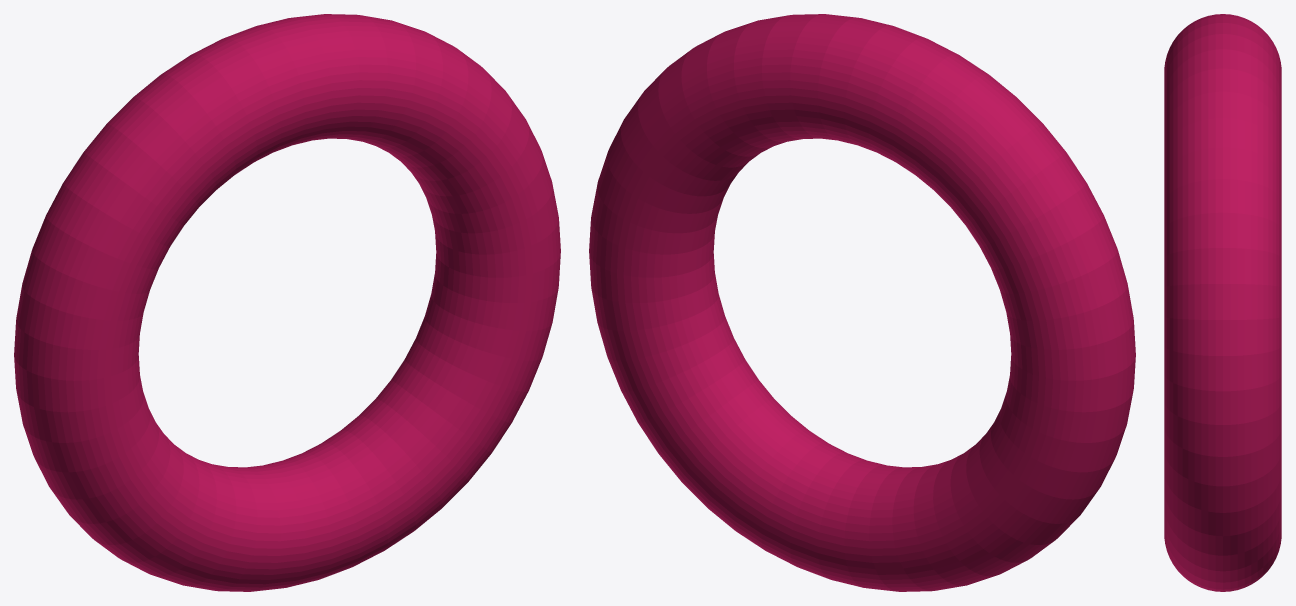
The picture shows the model from 3 angles, left to right: view 1: azimuth 30°, elevation 25°; view 2: azimuth 150°, elevation 25°; view 3: azimuth 270°, elevation 25°; orthographic projection. The views are drawn at different scales.
Parts seen in each view (by area): view 1: world; view 2: world; view 3: world.
Boxes of the visible parts, <box> form: world: <box>14,14,560,591</box>; world: <box>589,14,1135,591</box>; world: <box>1164,14,1281,591</box>.
Bounding box in the file's own units: 36 × 35.93 × 7.32.
